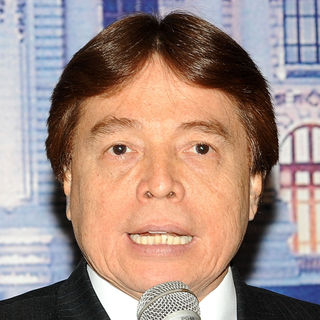eye: (99, 139, 143, 163), (180, 138, 224, 162)
